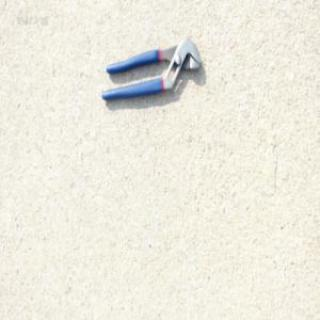Pliertrack_idkeyframe: (98, 36, 202, 102)
